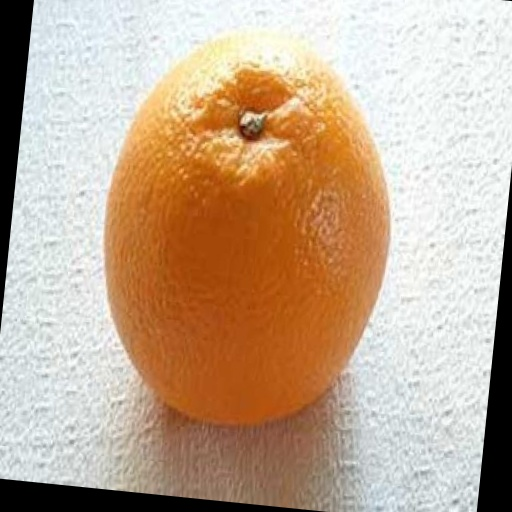fruit: (105, 33, 389, 423)
